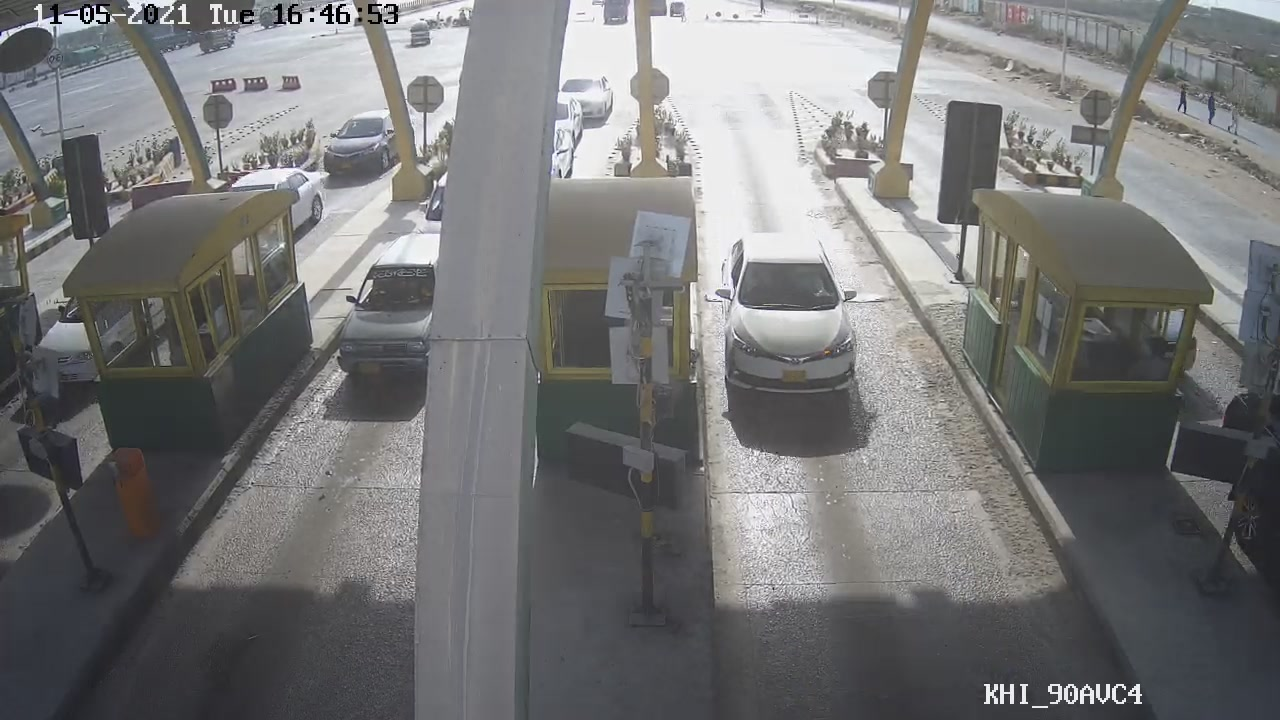F1: (709, 226, 866, 395)
